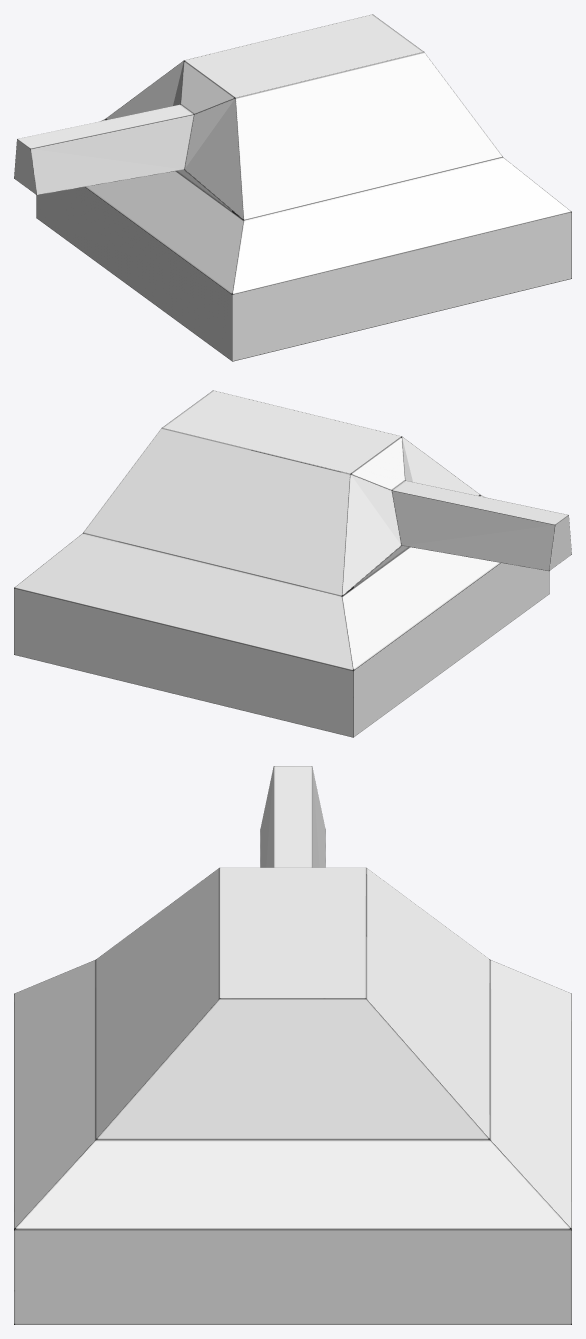
File: enemy.obj
3 views of the same model, one above another, from view 1: azimuth 30°, elevation 25°; view 2: azimuth 150°, elevation 25°; view 3: azimuth 270°, elevation 25° (orthographic). The views are drawn at different scales.
Visible parts, largest first — view 1: Cube; view 2: Cube; view 3: Cube.
Boxes of the visible parts, box(x1,y1,x2,y2) form: Cube: box(14, 14, 571, 361); Cube: box(14, 390, 571, 737); Cube: box(14, 766, 571, 1324).
Bounding box in the file's own units: 2.65 × 1.08 × 2.
Materials: 1 (1 with a texture image).
